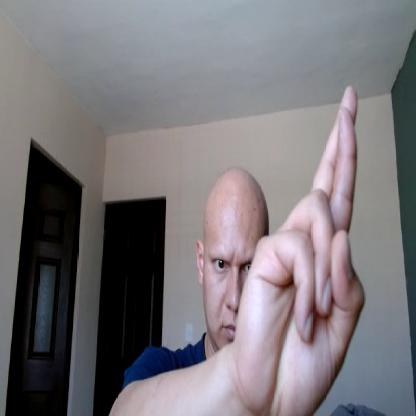R: (235, 82, 366, 415)
